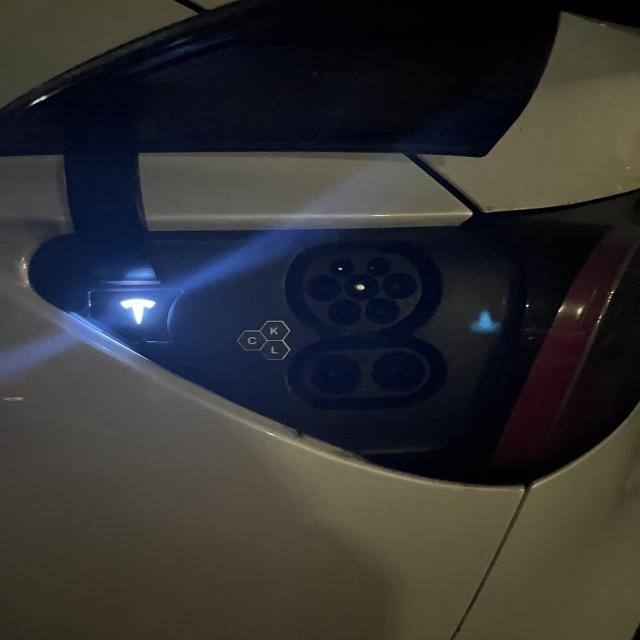inlet: (302, 253, 422, 331)
inlet-above-left: (327, 258, 354, 276)
inlet-above-right: (366, 257, 391, 275)
inlet-below-left: (328, 299, 361, 325)
inlet-below-right: (364, 298, 400, 324)
inlet-circle: (345, 274, 378, 301)
inlet-circle-left: (306, 274, 342, 302)
inlet-circle-right: (382, 273, 417, 299)
inlet-minus: (371, 352, 426, 392)
inlet-plus: (309, 354, 362, 395)
